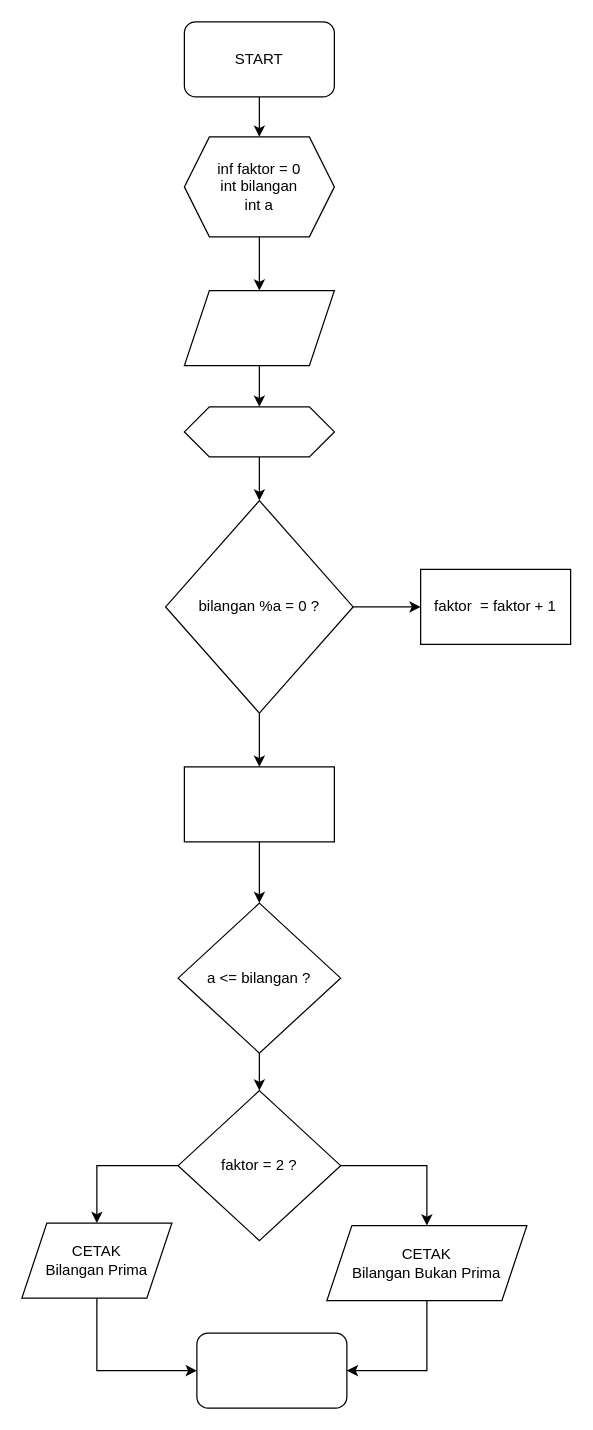
The diagram is 593 pixels wide and 1430 high, and some of its shapes have lost their labels. Here are the shapes that lost their labels. From the top down, the centre of each, then its label:
At [258,327]: "INPUT BIlangan".
At [258,431]: "a = 1".
At [258,804]: "a=a+1".
At [271,1370]: "END".
